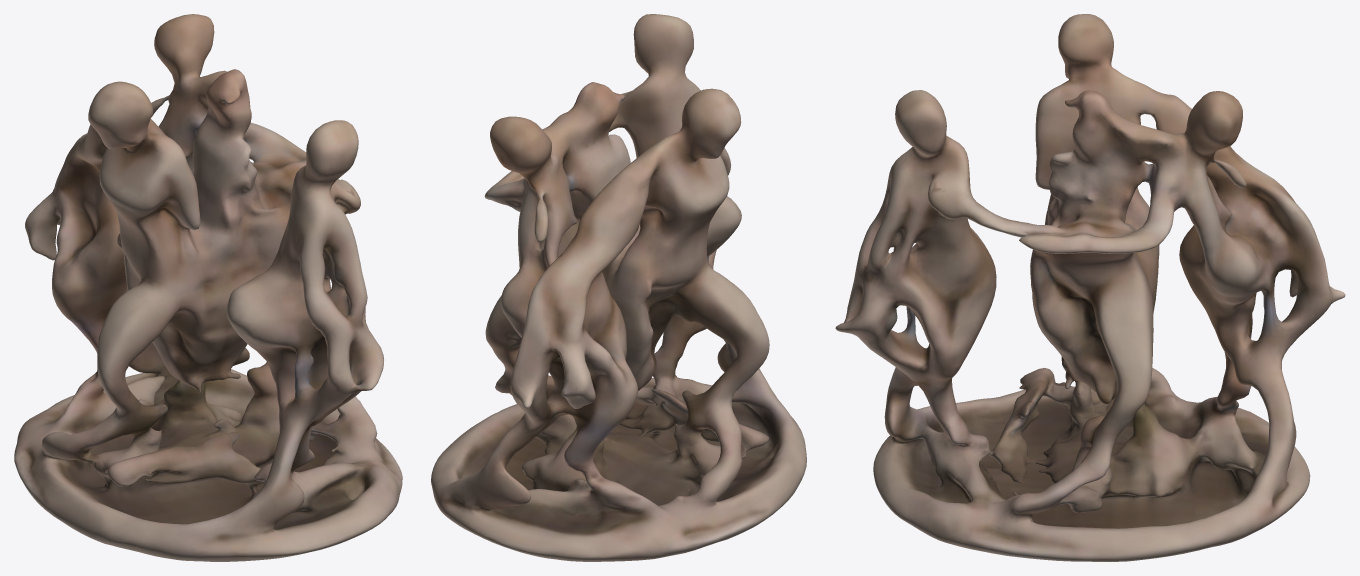
The model's file is dancers.glb.
The picture shows the model from 3 angles, left to right: view 1: azimuth 30°, elevation 25°; view 2: azimuth 150°, elevation 25°; view 3: azimuth 270°, elevation 25°; orthographic projection. The views are drawn at different scales.
Visible parts, largest first — view 1: high_poly; view 2: high_poly; view 3: high_poly.
Part boxes in pixels (x1,y1,x2,y2): high_poly: (14,14,402,561); high_poly: (431,14,806,561); high_poly: (835,14,1345,561).
Size of the model in its own units: 0.7249 by 0.9469 by 1.
Materials: 1 (1 with a texture image).
